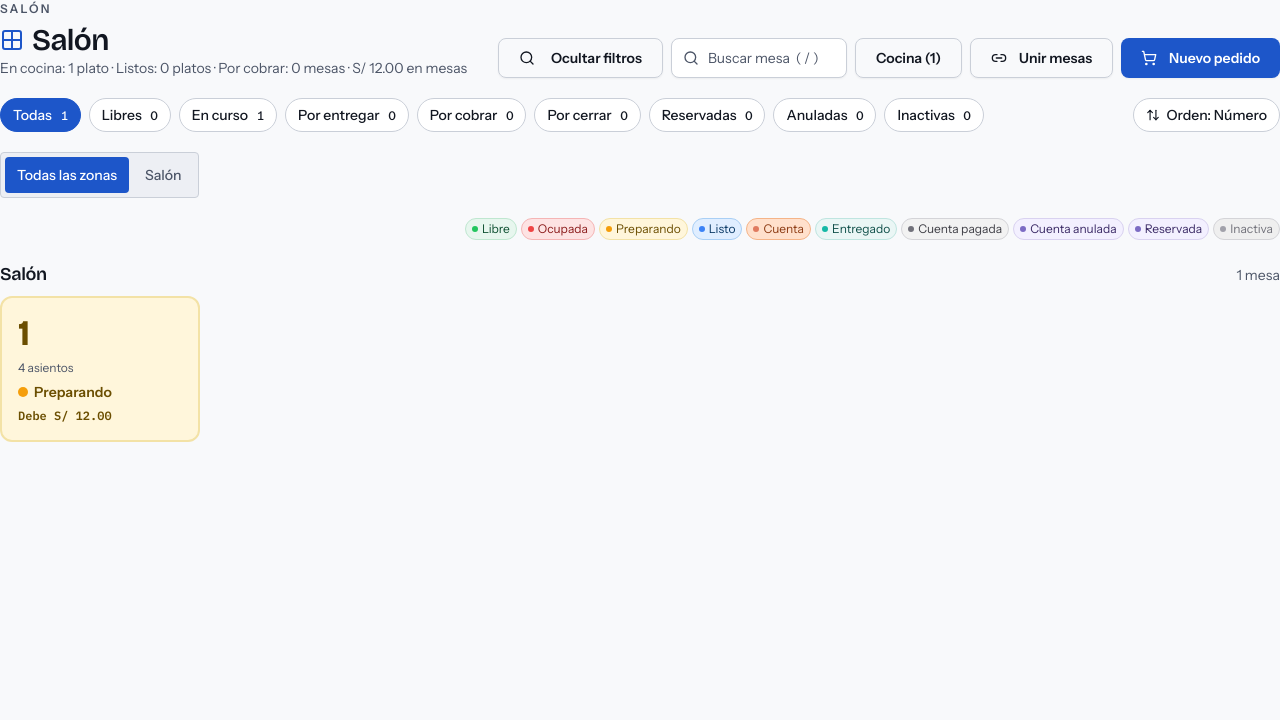
Test: compositor · paridad posView (S8) › sends an unnamed independent order only after explicit review confirmation
Click the element with test id "mesa-card-1": (100, 369) [0,296,200,442]
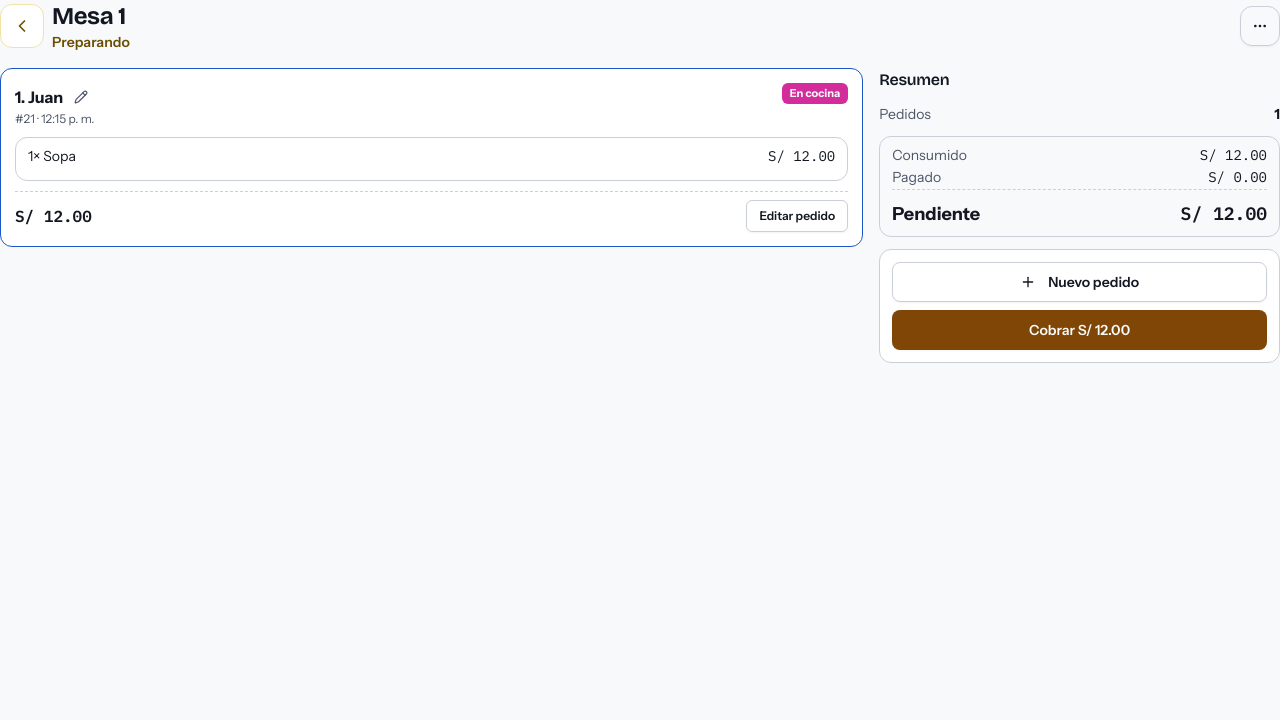
Click the button with test id "mesa-sheet-nuevo-pedido": (1080, 282) [892,262,1267,302]
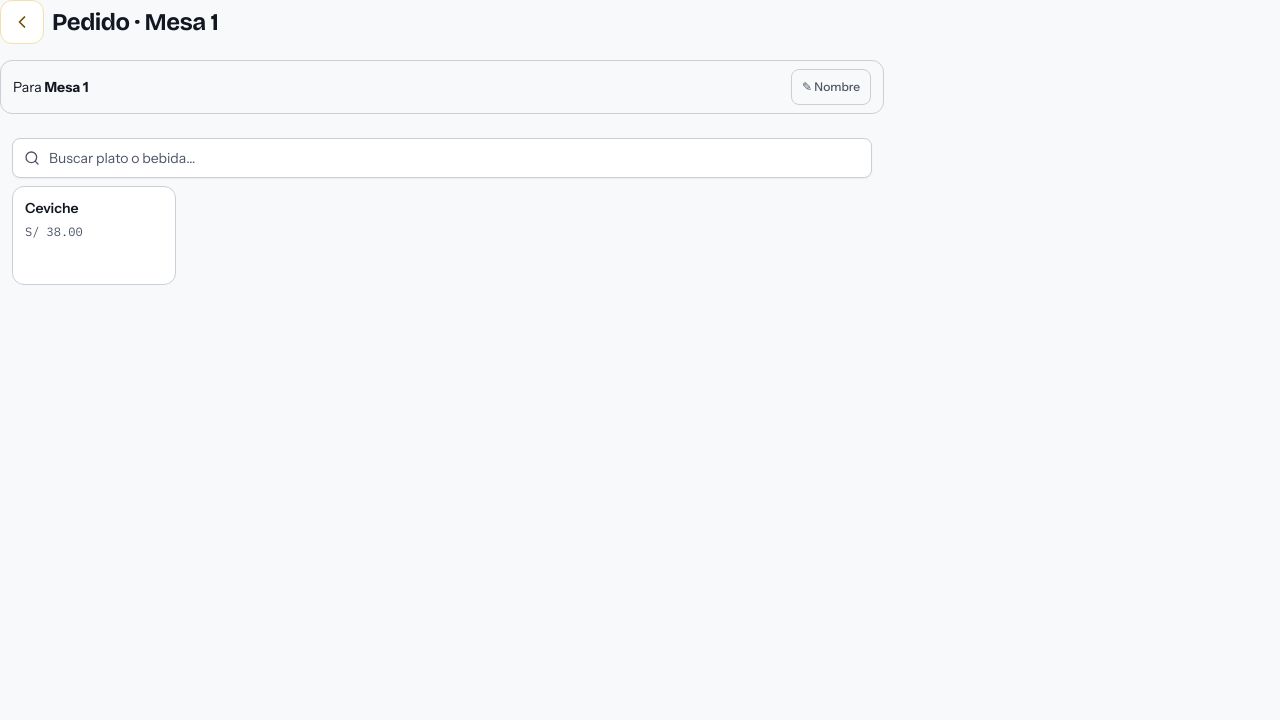
Click the button with test id "mesa-sheet-producto-nombre-prod-n1": (94, 236) [13,187,175,284]
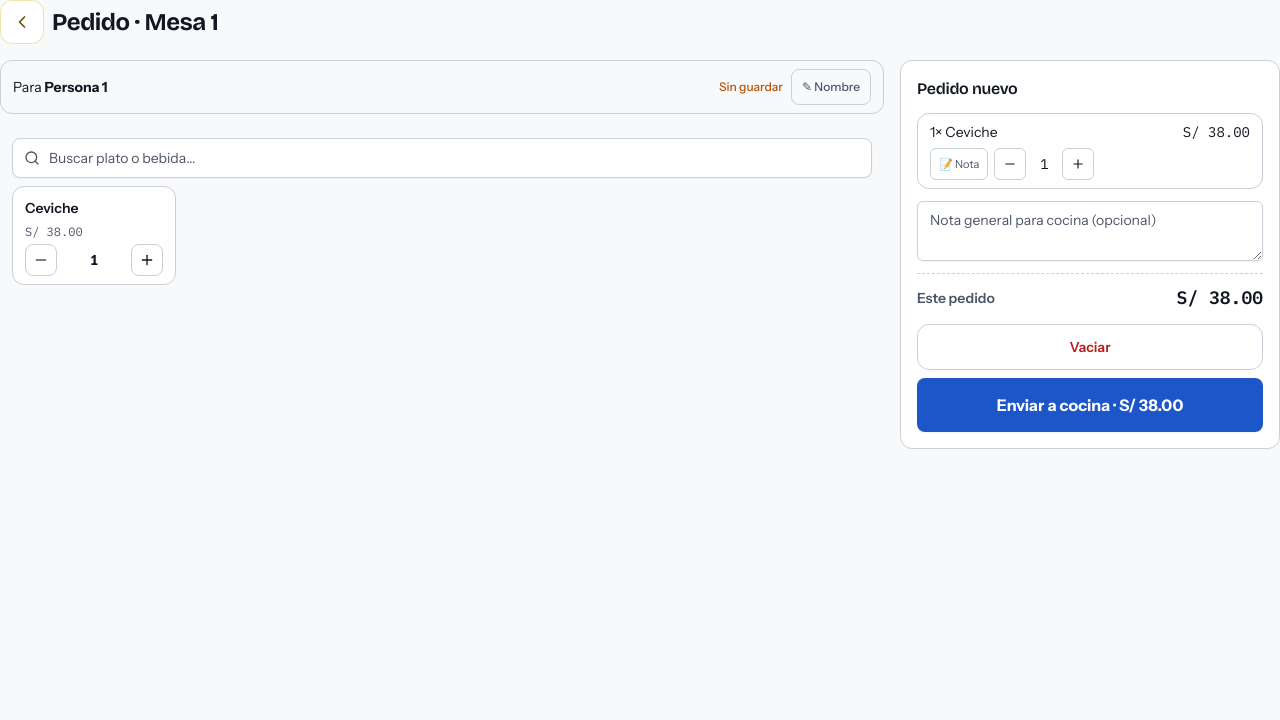
Click the button with test id "mesa-sheet-enviar-cocina": (1090, 405) [917,378,1263,432]
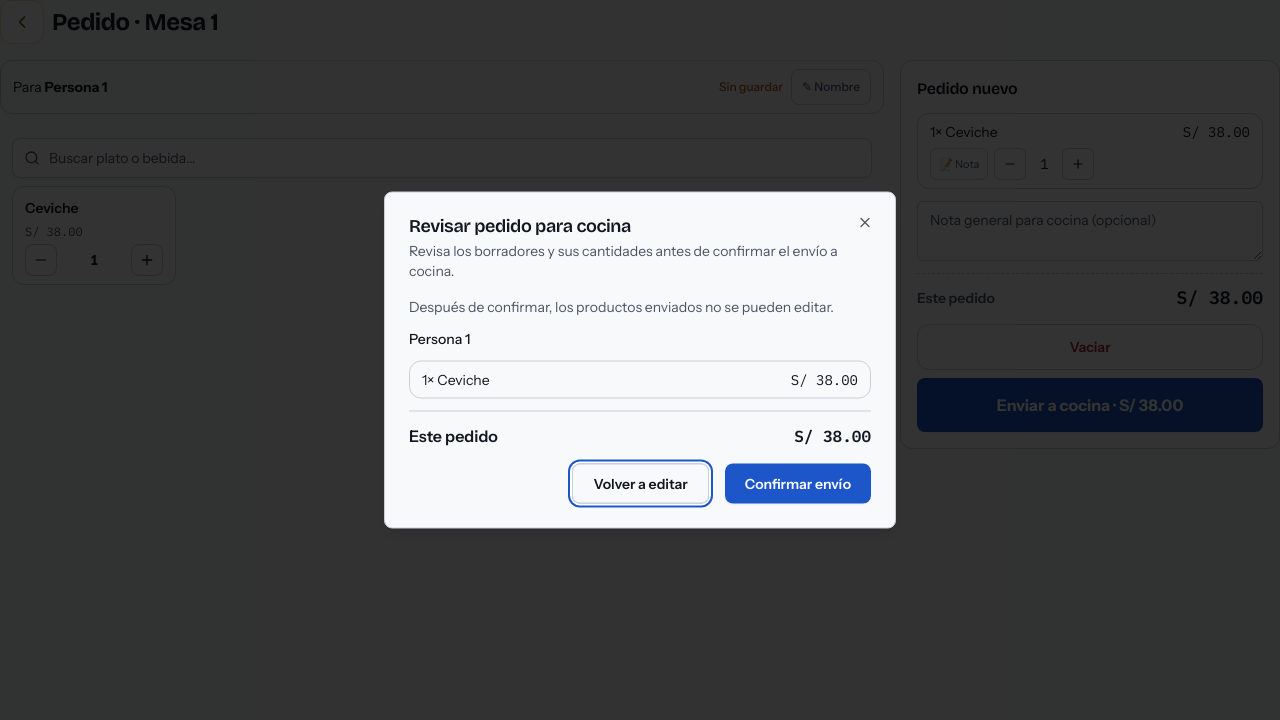
Click the button with test id "mesa-sheet-confirmar-envio": (798, 484) [725,464,871,504]
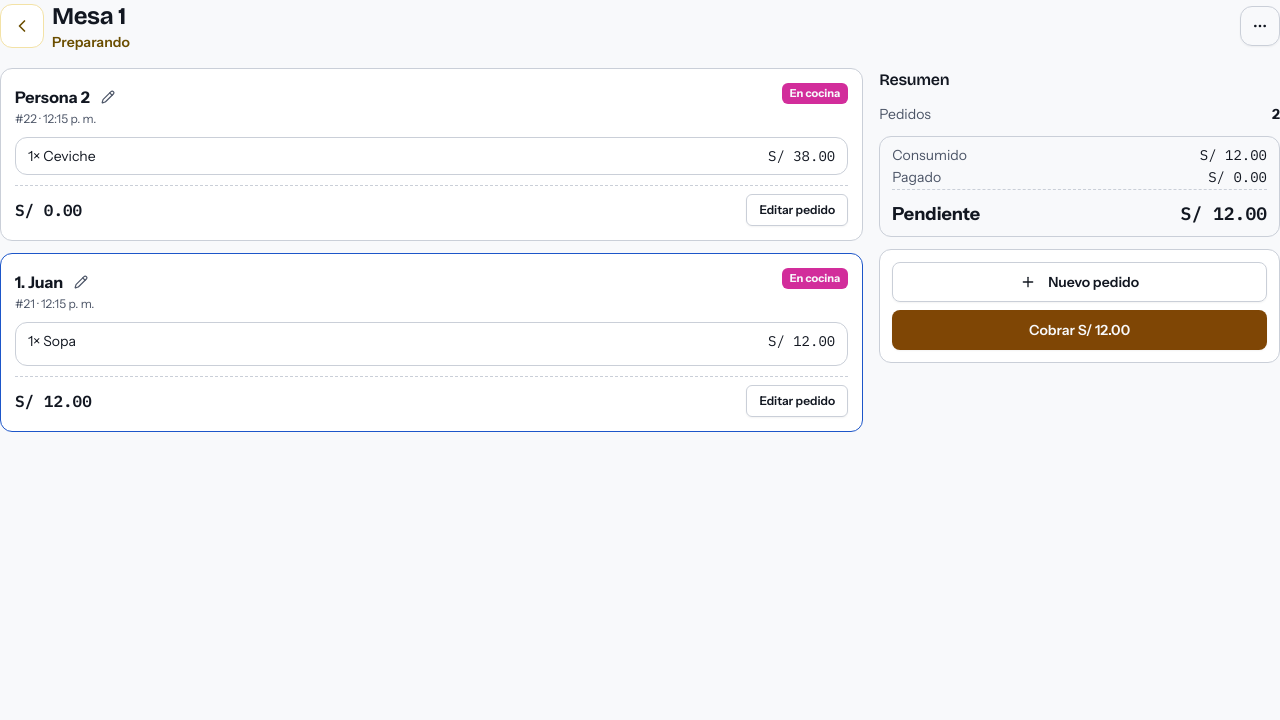
Check: the element with test id "mesa-sheet-pedido-21" shows "Juan", box [15,272,63,292]
Check: the element with test id "mesa-sheet-pedido-22" shows "Persona 2", box [15,87,90,107]
